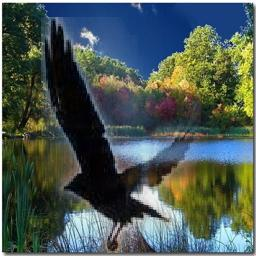Crow: (41, 17, 201, 253)
